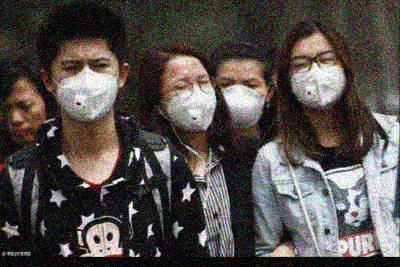with_mask: (50, 50, 120, 122), (287, 47, 348, 108), (158, 68, 217, 129), (214, 70, 269, 128)
without_mask: (1, 93, 46, 145)
